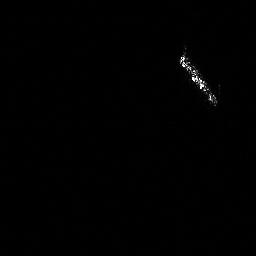ship: (175, 46, 221, 109)
